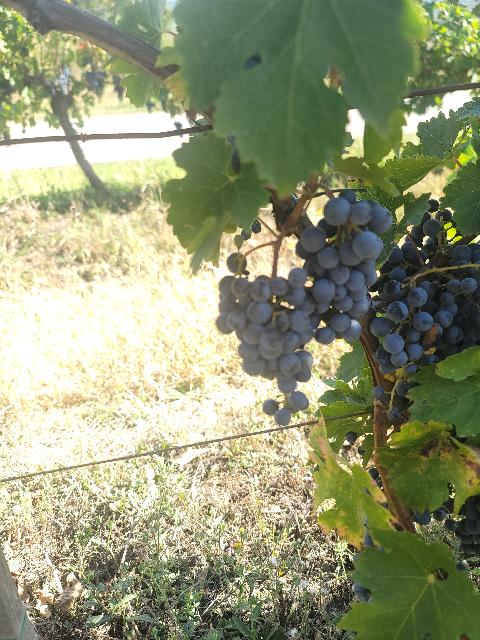grapes: (216, 254, 316, 424), (300, 190, 392, 344)
